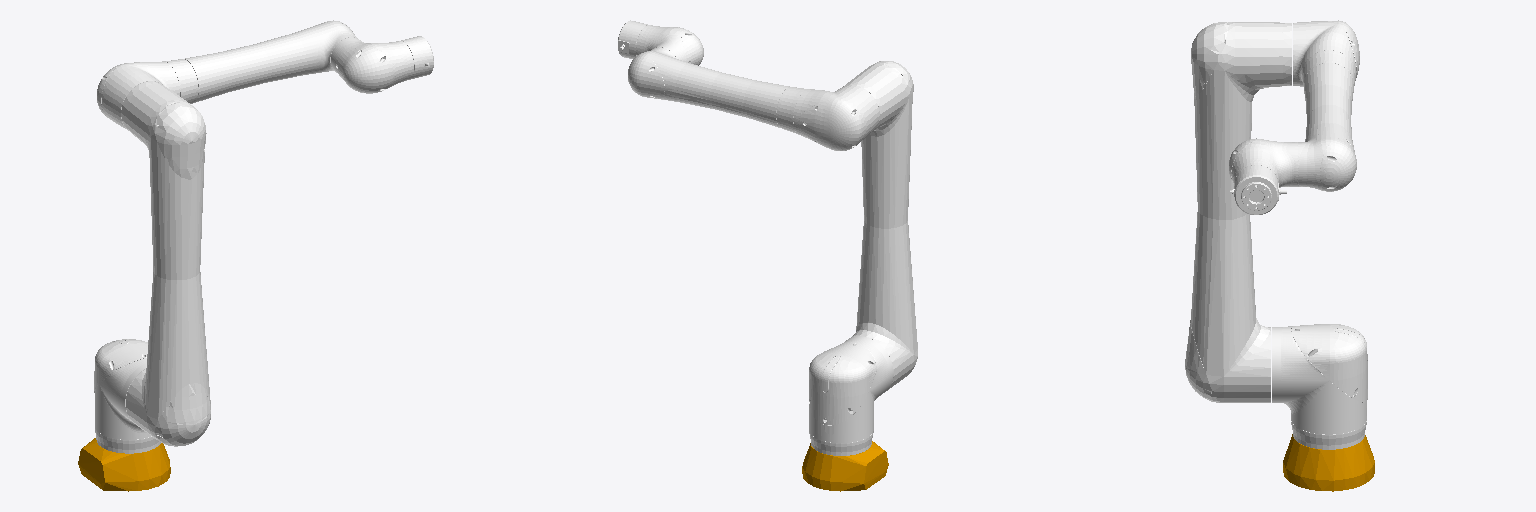
The robot description file, URDF, robot "fanuc_crx10ia_l":
<?xml version="1.0" ?>
<robot name="fanuc_crx10ia_l">

   <!-- Materials -->
  <material name="color">
    <color rgba="1 1 1 1"/>
  </material>
  
  <link name="base">
    <!--<inertial>
      <origin xyz="-0.00382056 0.0020695 0.01942089" rpy="0 0 0"/>
      <mass value="3.50083457958494"/>
      <inertia ixx="0.0153015257917955" ixy="0" ixz="0" iyy="0.0159333503953857" iyz="0" izz="0.0112162302268266"/>
    </inertial>-->
    <visual>
      <geometry>
        <mesh filename="meshes/base.obj" scale="0.001 0.001 0.001"/>
      </geometry>
    </visual>
    <collision>
      <geometry>
        <mesh filename="collision/base.STL" scale="0.001 0.001 0.001"/>
      </geometry>
    </collision>
  </link>
  <link name="L1">
    <inertial>
      <origin xyz="-0.00569797 0.00186743 0.11379122" rpy="0 0 0"/>
      <mass value="7.936"/>
      <inertia ixx="0.0529933" ixy="0" ixz="0" iyy="0.04558587" iyz="0" izz="0.03437197"/>
    </inertial>
    <visual>
      <geometry>
        <mesh filename="meshes/L1.obj" scale="0.001 0.001 0.001"/>
      </geometry>
      <material name="color"/>
    </visual>
    <collision>
      <geometry>
        <mesh filename="collision/L1.STL" scale="0.001 0.001 0.001"/>
      </geometry>
    </collision>
  </link>
  <joint name="J1" type="revolute">
    <parent link="base"/>
    <child link="L1"/>
    <origin xyz="0 0 0.1277" rpy="0 0 0"/>
    <axis xyz="0.0 0.0 1.0"/>
    <limit lower="-3.14" upper="3.14" effort="100" velocity="1.0"/>
  </joint>
  <link name="L2">
    <inertial>
      <origin xyz="0.00030878 -0.23265489 0.40597396" rpy="0 0 0"/>
      <mass value="17.576"/>
      <inertia ixx="1.03123975" ixy="0" ixz="0" iyy="1.00774475" iyz="0" izz="0.07887079"/>
    </inertial>
    <visual>
      <geometry>
        <mesh filename="meshes/L2.obj" scale="0.001 0.001 0.001"/>
      </geometry>
      <material name="color"/>
    </visual>
    <collision>
      <geometry>
        <mesh filename="collision/L2.STL" scale="0.001 0.001 0.001"/>
      </geometry>
    </collision>
  </link>
  <joint name="J2" type="revolute">
    <parent link="L1"/>
    <child link="L2"/>
    <origin xyz="0 0 0.117" rpy="0 0 0"/>
    <axis xyz="0.0 1.0 0.0"/>
    <limit lower="-3.14" upper="3.14" effort="100" velocity="1.0"/>
  </joint>
  <link name="L3">
    <inertial>
      <origin xyz="0.02023601 0.02297838 -0.00069627" rpy="0 0 0"/>
      <mass value="4.107"/>
      <inertia ixx="0.00972653" ixy="0" ixz="0" iyy="0.01821673" iyz="0" izz="0.01861618"/>
    </inertial>
    <visual>
      <geometry>
        <mesh filename="meshes/L3.obj" scale="0.001 0.001 0.001"/>
      </geometry>
      <material name="color"/>
    </visual>
    <collision>
      <geometry>
        <mesh filename="collision/L3.STL" scale="0.001 0.001 0.001"/>
      </geometry>
    </collision>
  </link>
  <joint name="J3" type="revolute">
    <parent link="L2"/>
    <child link="L3"/>
    <origin xyz="0 0 0.71" rpy="0 0 0"/>
    <axis xyz="0.0 -1.0 0.0"/>
    <limit lower="-4.71238898038469" upper="4.71238898038469" effort="100" velocity="1.0"/>
  </joint>
  <link name="L4">
    <inertial>
      <origin xyz="-0.01795465 0.0035709 0.00016217" rpy="0 0 0"/>
      <mass value="4.959"/>
      <inertia ixx="0.00826192" ixy="0" ixz="0" iyy="0.07702783" iyz="0" izz="0.07766716"/>
    </inertial>
    <visual>
      <geometry>
        <mesh filename="meshes/L4.obj" scale="0.001 0.001 0.001"/>
      </geometry>
      <material name="color"/>
    </visual>
    <collision>
      <geometry>
        <mesh filename="collision/L4.STL" scale="0.001 0.001 0.001"/>
      </geometry>
    </collision>
  </link>
  <joint name="J4" type="revolute">
    <parent link="L3"/>
    <child link="L4"/>
    <origin xyz="0.54 0 0.0" rpy="0 0 0"/>
    <axis xyz="-1.0 0.0 0.0"/>
    <limit lower="-3.3161255787892263" upper="3.3161255787892263" effort="100" velocity="1.0"/>
  </joint>
  <link name="L5">
    <inertial>
      <origin xyz="0.00186419 0.00283739 -0.0003275" rpy="0 0 0"/>
      <mass value="2.141"/>
      <inertia ixx="0.00413567" ixy="0" ixz="0" iyy="0.00472478" iyz="0" izz="0.00588804"/>
    </inertial>
    <visual>
      <geometry>
        <mesh filename="meshes/L5.obj" scale="0.001 0.001 0.001"/>
      </geometry>
      <material name="color"/>
    </visual>
    <collision>
      <geometry>
        <mesh filename="collision/L5.STL" scale="0.001 0.001 0.001"/>
      </geometry>
    </collision>
  </link>
  <joint name="J5" type="revolute">
    <parent link="L4"/>
    <child link="L5"/>
    <origin xyz="0.0 -0.15 0.0" rpy="0 0 0"/>
    <axis xyz="0.0 -1.0 0.0"/>
    <limit lower="-3.14" upper="3.14" effort="100" velocity="1.0"/>
  </joint>
  <link name="L6">
    <inertial>
      <origin xyz="-0.01611361 0.00604174 0.00031788" rpy="0 0 0"/>
      <mass value="0.52"/>
      <inertia ixx="0.00057032" ixy="0" ixz="0" iyy="0.00038816" iyz="0" izz="0.00045904"/>
    </inertial>
    <visual>
      <geometry>
        <mesh filename="meshes/L6.obj" scale="0.001 0.001 0.001"/>
      </geometry>
      <material name="color"/>
    </visual>
    <collision>
      <geometry>
        <mesh filename="collision/L6.STL" scale="0.001 0.001 0.001"/>
      </geometry>
    </collision>
  </link>
  <joint name="J6" type="revolute">
    <parent link="L5"/>
    <child link="L6"/>
    <origin xyz="0.15999999999999992 0.0 0.0" rpy="0 0 0"/>
    <axis xyz="-1.0 0.0 0.0"/>
    <limit lower="-3.9269908169872414" upper="3.9269908169872414" effort="100" velocity="1.0"/>
  </joint>
  
  <!-- Flange -->
  <link name="flange"/>
  <joint name="L6_to_flange" type="fixed">
    <origin xyz="0 0 0" rpy="0 1.5708 0"/>
    <parent link="L6"/>
    <child link="flange"/>
  </joint>
  
</robot>

--- Render facts (derived) ---
3 views of the same robot in one strip: view 1: azimuth 30°, elevation 25°; view 2: azimuth 150°, elevation 25°; view 3: azimuth 270°, elevation 25° (orthographic).
Robot: fanuc_crx10ia_l — 8 links, 7 joints (6 revolute, 1 fixed); root link base; default pose: all joints at 0.
Links seen in each view (by area): view 1: L2, L4, L1, L5, base, L3, L6; view 2: L2, L1, L4, L3, base, L5, L6; view 3: L2, L1, L4, base, L3, L5, L6.
Link boxes in pixels (x1,y1,x2,y2): L2: [121, 81, 210, 446]; L4: [185, 20, 356, 102]; L1: [94, 339, 160, 453]; L5: [331, 37, 413, 93]; base: [78, 438, 170, 491]; L3: [97, 59, 198, 130]; L6: [401, 36, 433, 79]; L2: [843, 61, 917, 390]; L1: [809, 336, 893, 455]; L4: [628, 47, 789, 127]; L3: [776, 85, 879, 150]; base: [802, 441, 888, 491]; L5: [636, 25, 703, 65]; L6: [618, 20, 647, 58]; L2: [1185, 22, 1291, 402]; L1: [1272, 324, 1367, 449]; L4: [1298, 63, 1356, 191]; base: [1283, 434, 1374, 491]; L3: [1293, 20, 1359, 86]; L5: [1229, 138, 1297, 187]; L6: [1230, 165, 1286, 214].
Size in the robot's own frame: 0.7996 by 0.3939 by 1.03 metres.
7 mesh visuals loaded from 7 distinct referenced files (7 OBJ).
